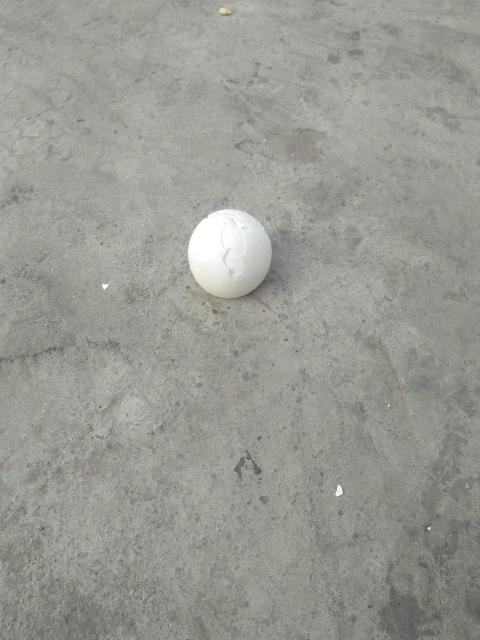Roto: (187, 208, 272, 299)
